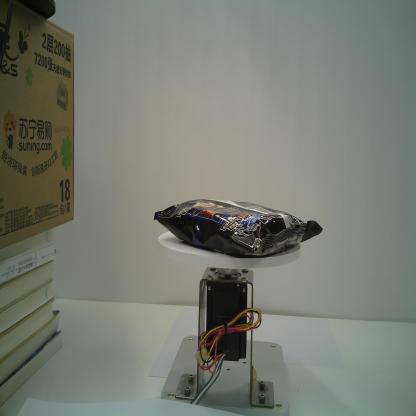Instant Noodles: (153, 197, 324, 260)
